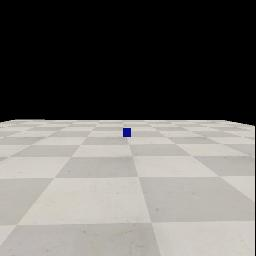box: (123, 128, 131, 137)
